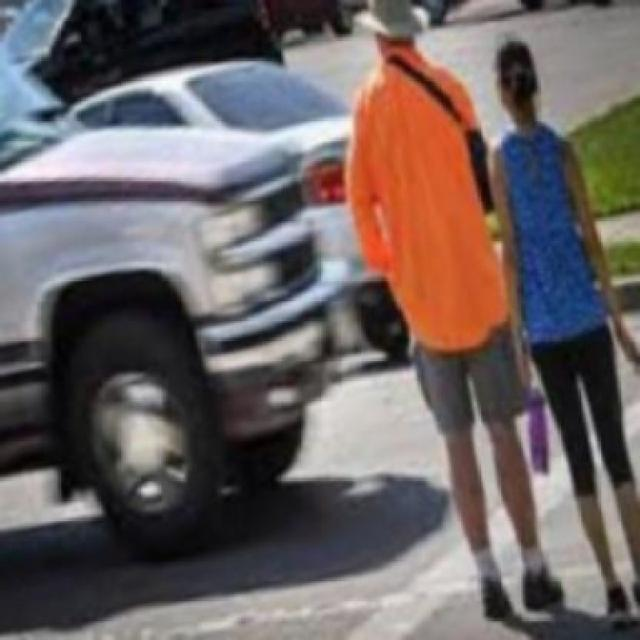Person: (342, 0, 570, 626), (480, 40, 638, 631)
